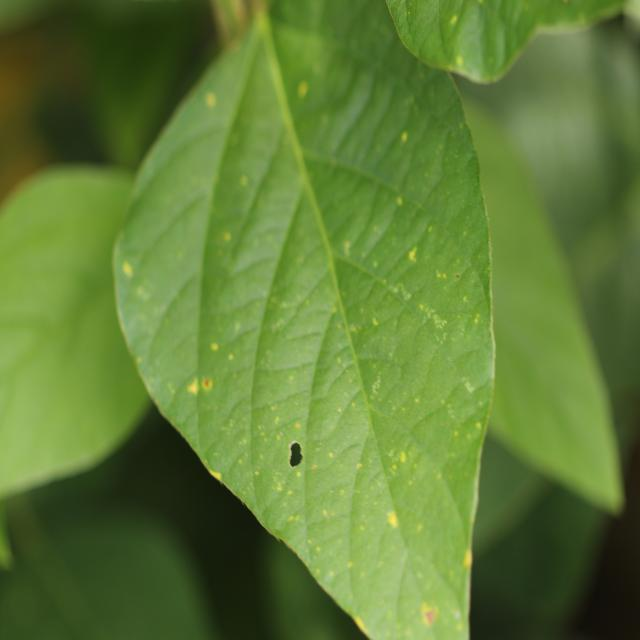Soybean: (0, 0, 640, 640)
downey_mildew: (336, 211, 478, 463), (486, 284, 626, 515), (2, 304, 142, 497), (66, 3, 212, 168), (298, 347, 379, 595), (123, 179, 215, 385), (252, 220, 338, 428), (195, 302, 267, 479), (248, 379, 325, 544), (570, 168, 640, 347), (399, 113, 484, 260), (326, 251, 410, 399), (267, 13, 356, 125), (436, 394, 489, 575), (223, 160, 296, 288), (2, 230, 87, 339), (309, 67, 397, 171), (265, 184, 326, 309), (365, 202, 427, 323), (394, 540, 456, 638), (112, 227, 154, 370), (510, 1, 639, 39), (446, 4, 503, 76), (388, 2, 447, 68), (0, 316, 42, 395), (392, 4, 408, 39)
